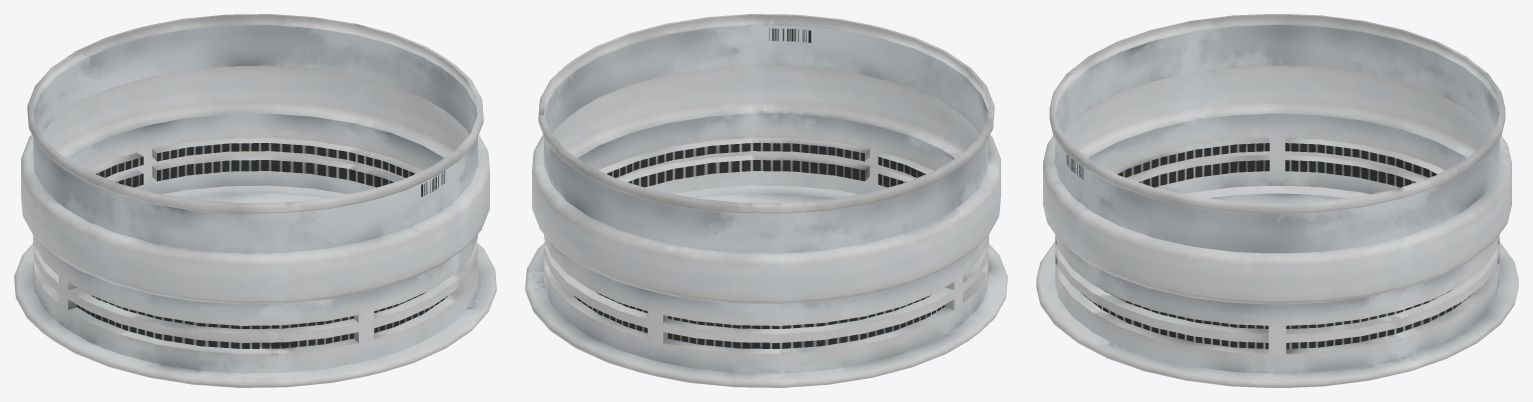
File: smoke-detector.glb
The picture shows the model from 3 angles, left to right: view 1: azimuth 30°, elevation 25°; view 2: azimuth 150°, elevation 25°; view 3: azimuth 270°, elevation 25°; orthographic projection.
Visible parts, largest first — view 1: defaultMaterial; view 2: defaultMaterial; view 3: defaultMaterial.
Boxes of the visible parts, x1=… form: defaultMaterial: x1=14, y1=14, x2=496, y2=387; defaultMaterial: x1=525, y1=14, x2=1007, y2=387; defaultMaterial: x1=1036, y1=14, x2=1518, y2=387.
Size of the model in its own units: 38.12 by 15.56 by 38.12.
Materials: 1 (1 with a texture image).
